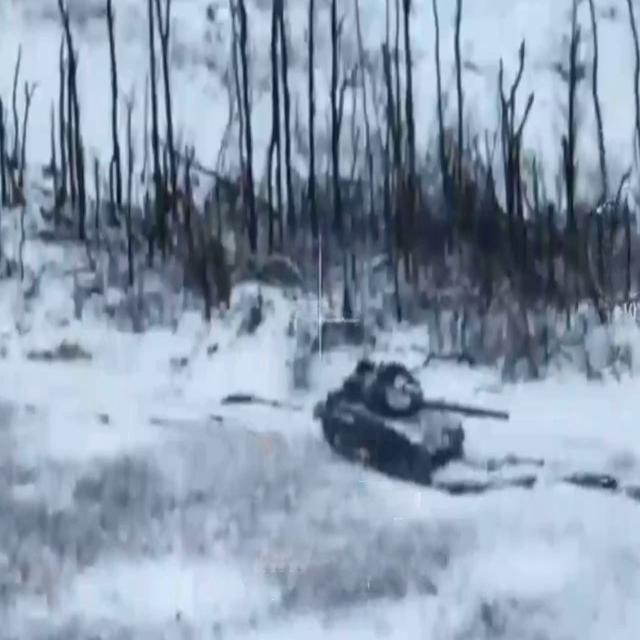MBT: (317, 363, 511, 488)
